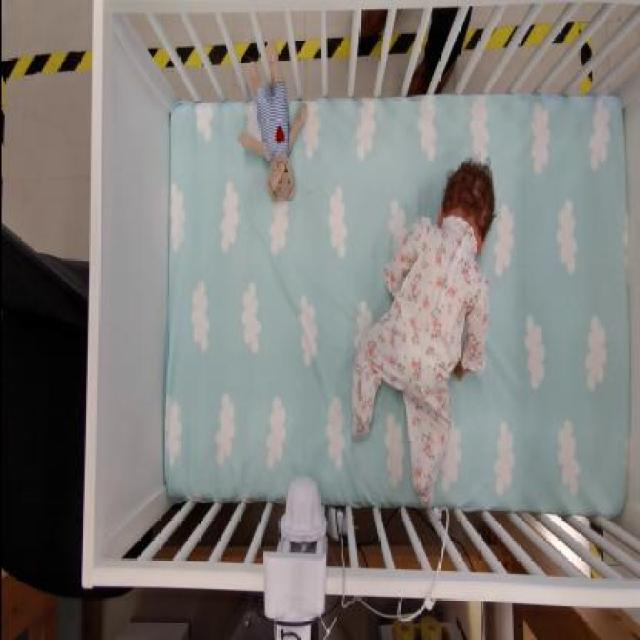baby: (349, 153, 499, 500)
